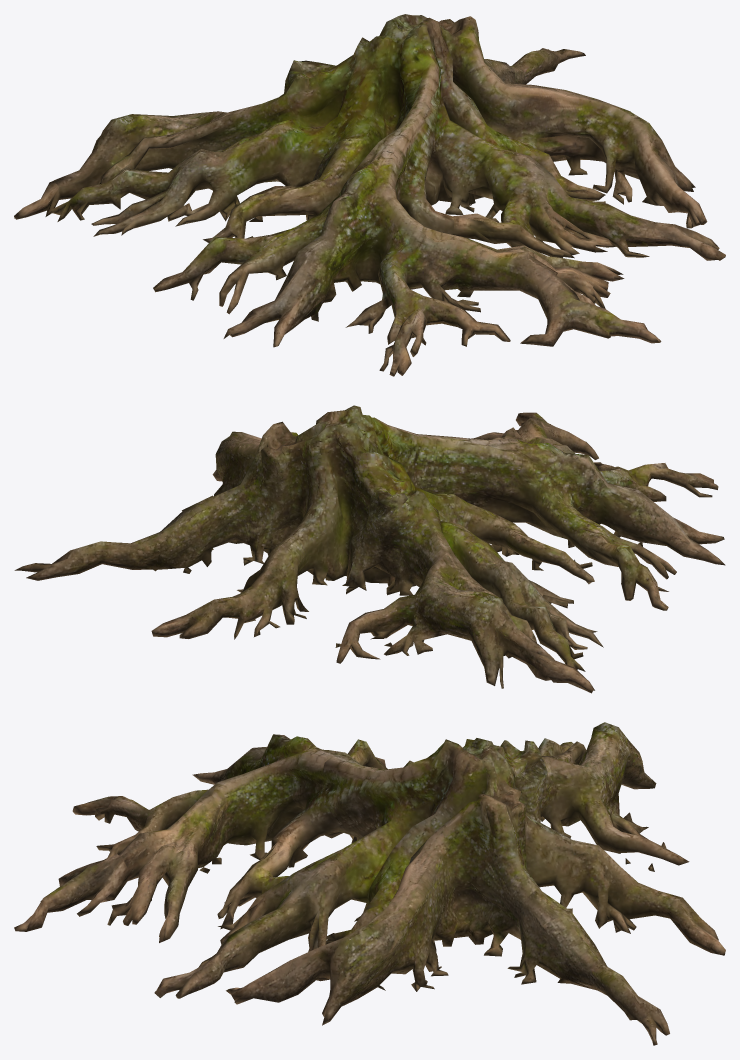
Rendered from VEG_RaizTropical_01_LOD0.fbx.
3 views of the same model, one above another, from view 1: azimuth 30°, elevation 25°; view 2: azimuth 150°, elevation 25°; view 3: azimuth 270°, elevation 25° (orthographic). The views are drawn at different scales.
Parts seen in each view (by area): view 1: VEG_RaizTropical_01_Mesh000; view 2: VEG_RaizTropical_01_Mesh000; view 3: VEG_RaizTropical_01_Mesh000.
Part boxes in pixels (x1,y1,x2,y2): VEG_RaizTropical_01_Mesh000: (14,14,725,376); VEG_RaizTropical_01_Mesh000: (14,405,725,693); VEG_RaizTropical_01_Mesh000: (14,722,725,1045).
Size of the model in its own units: 3 by 0.8311 by 3.01.
